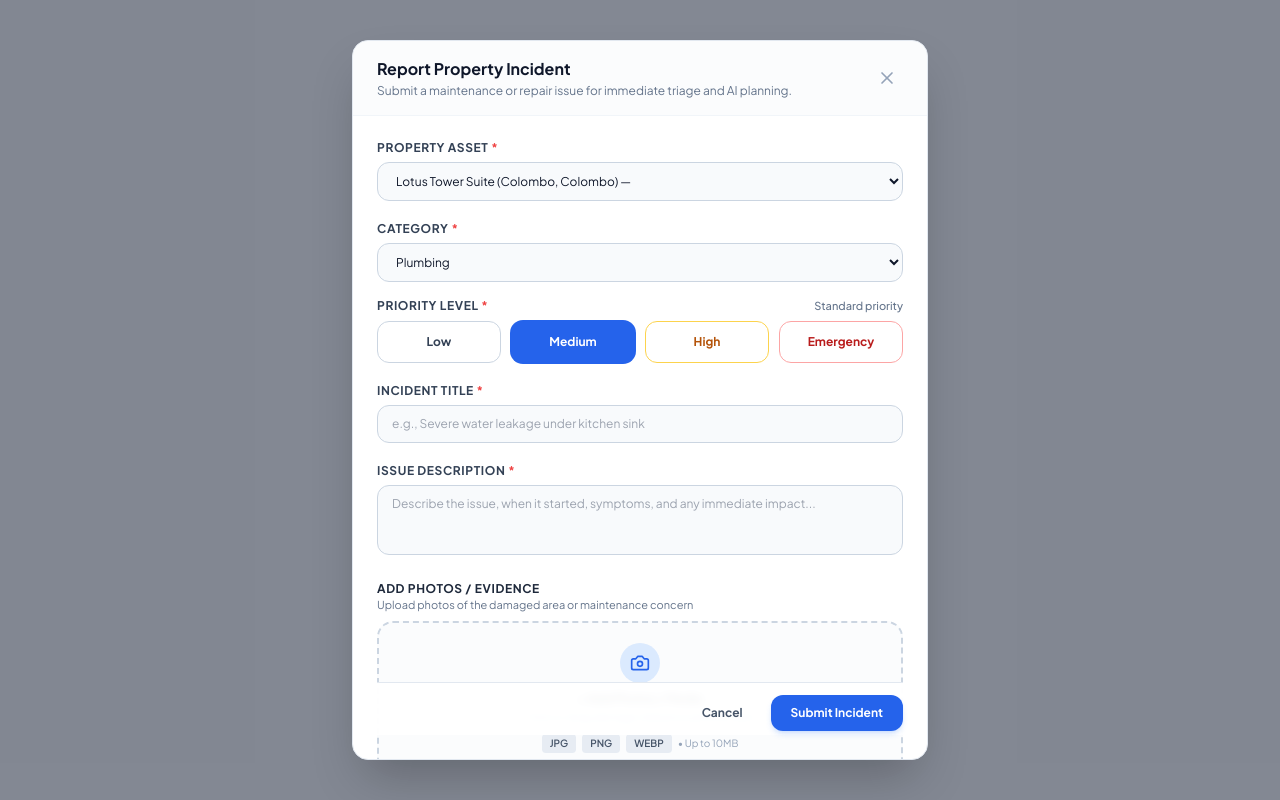
Test: ReportIncidentModal › validates budget and rejects values less than or equal to 0
Type "Pipe Leak" into the field with placeholder "e.g., Severe water leakage under kitchen sink".
click(640, 424); type("Pipe Leak")  # box [377, 404, 903, 442]
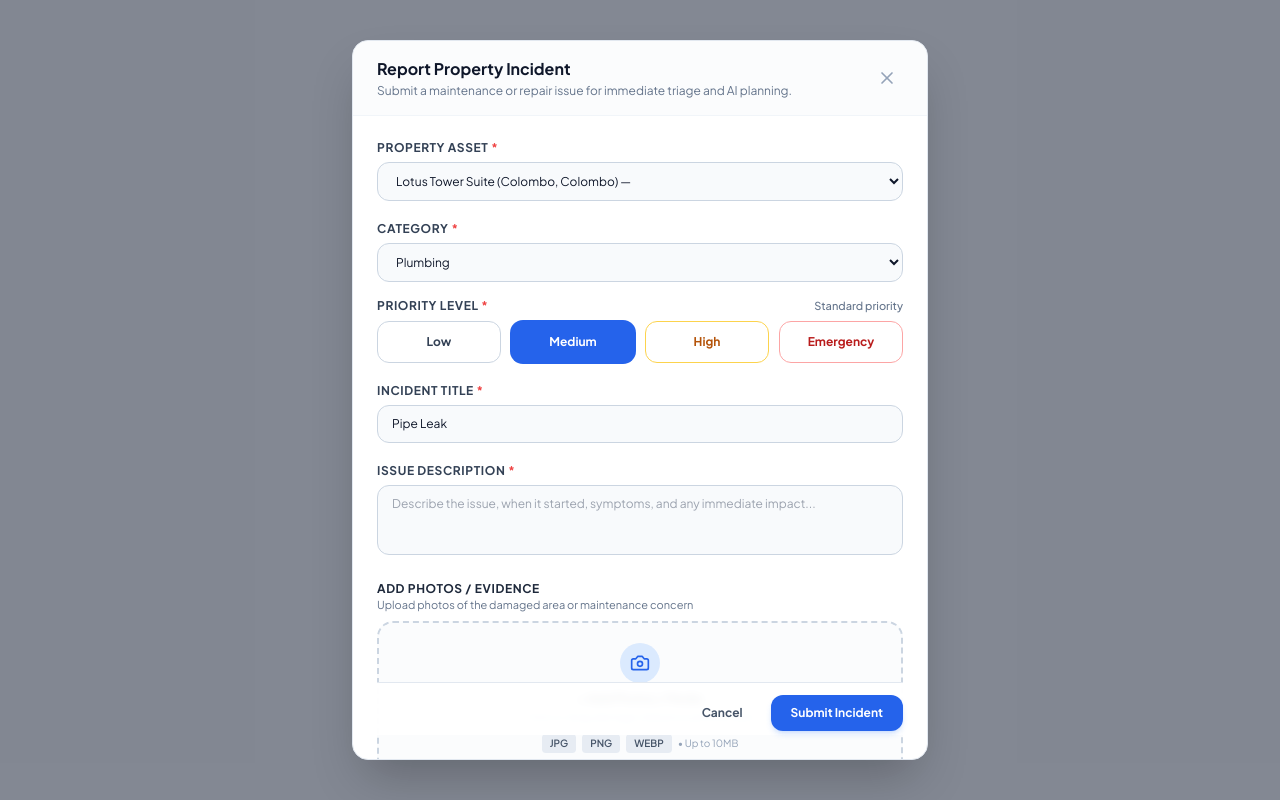
Replace the text in the text box with placeholder "Describe the issue" with "Severe water leak under sink" at (640, 520), box [377, 484, 903, 554]
(page scrolled)
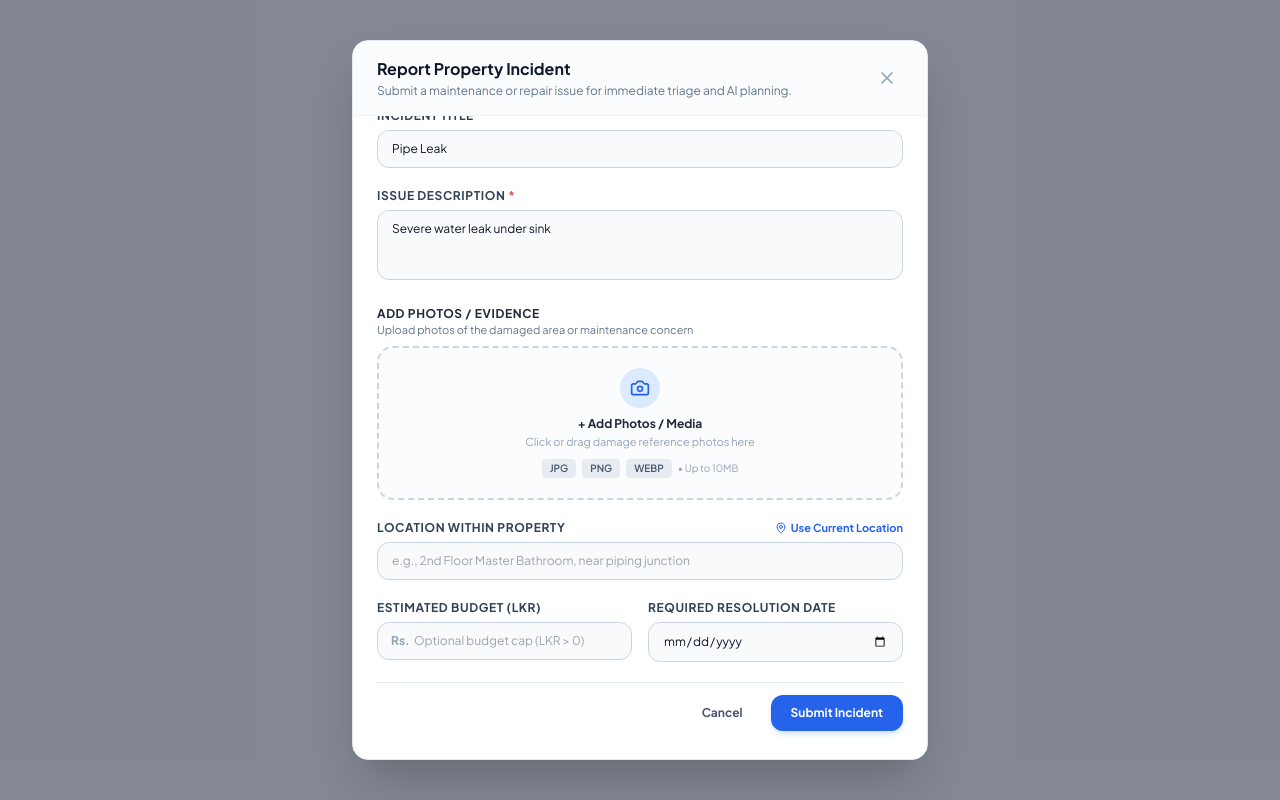
Type "-500" into the number field with placeholder "Optional budget cap (LKR > 0)".
click(504, 641); type("-500")  # box [377, 622, 632, 660]
(page scrolled)
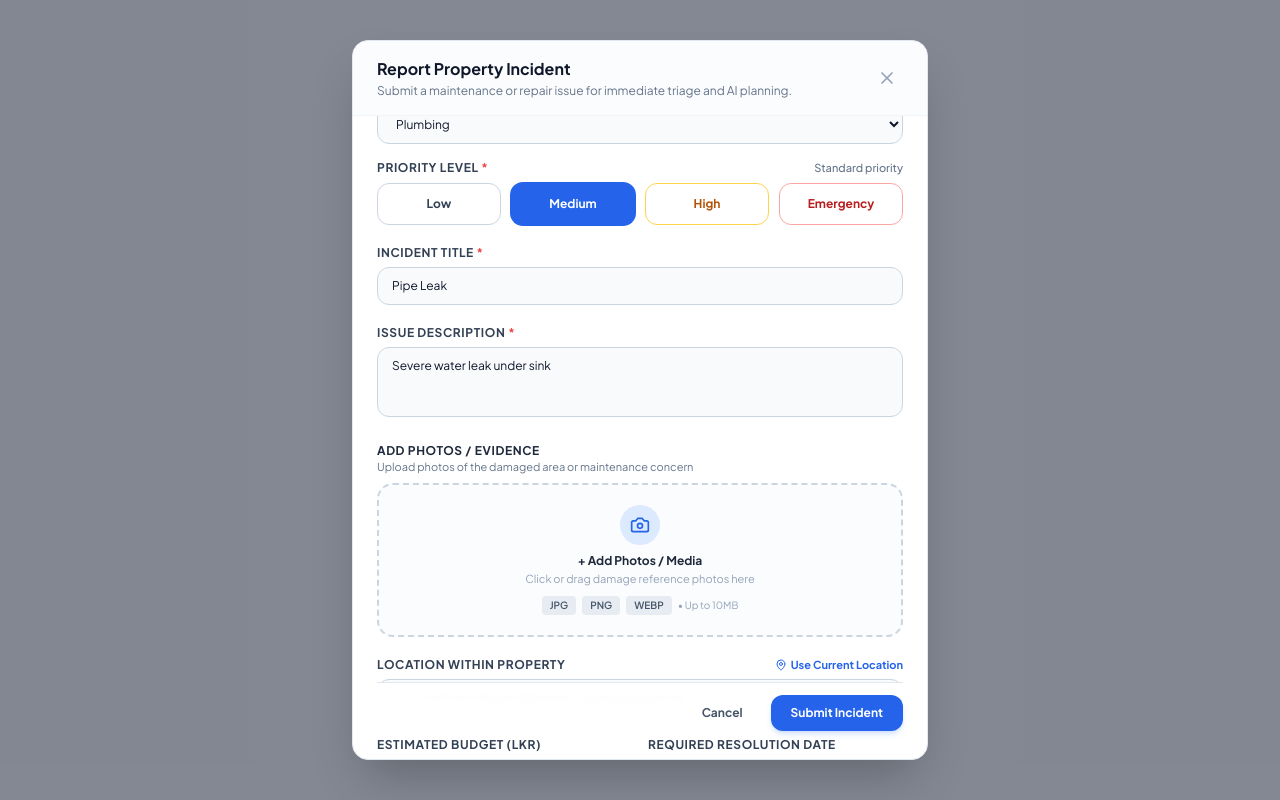
Submit the form named "submit incident"
(page scrolled)
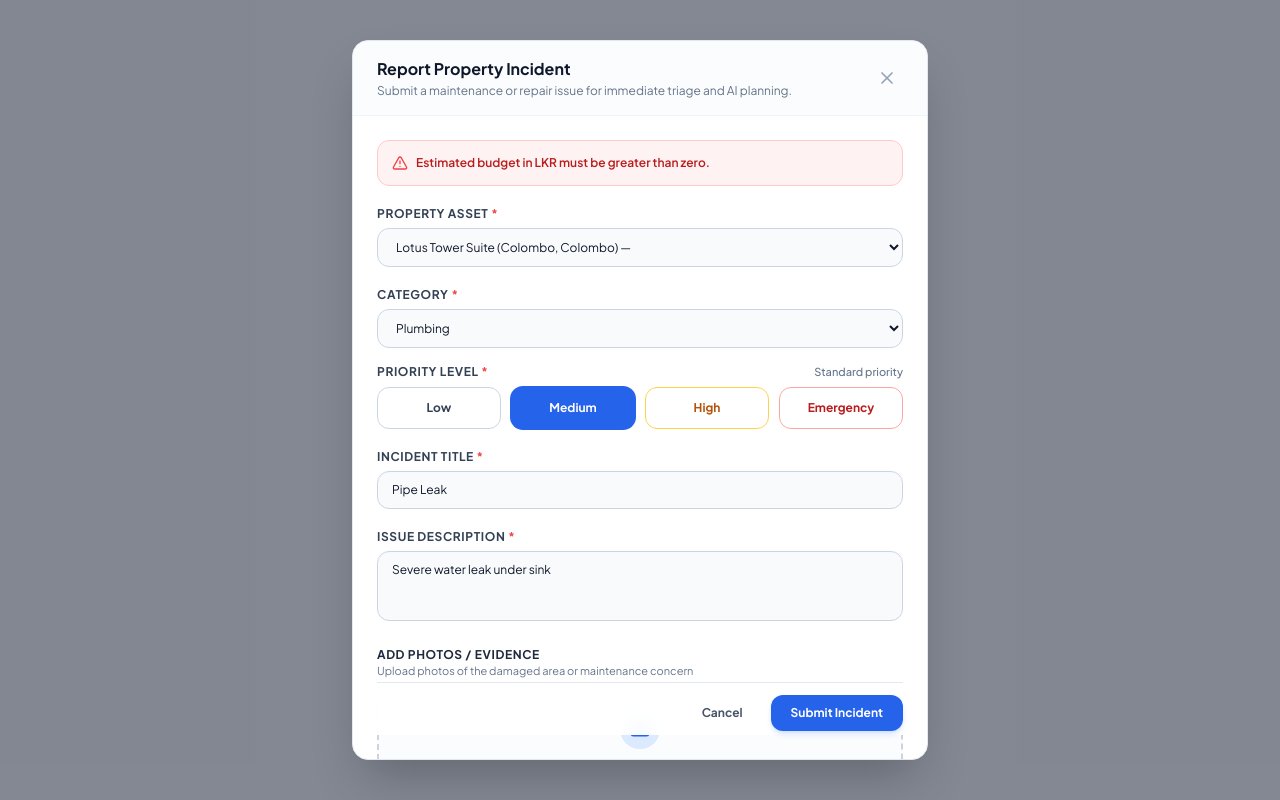
Result: the text "Estimated budget in LKR must be greater than zero." is shown at [416, 155, 710, 171]
